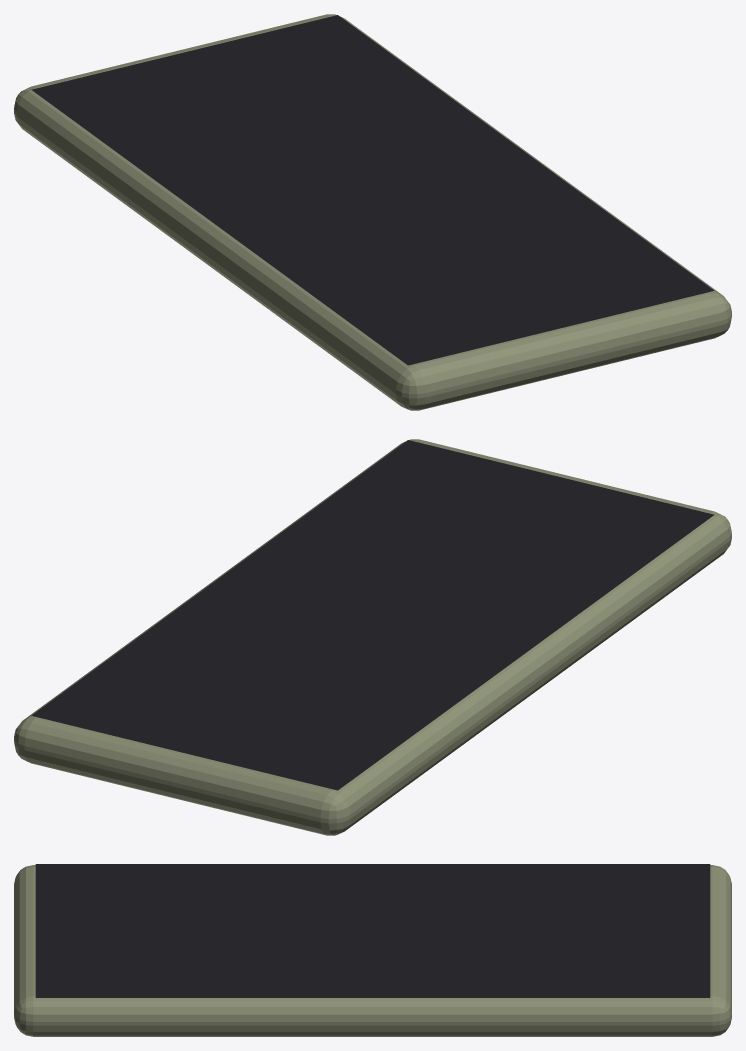
Rendered from oppo-reno-model-290-mid-range-2021.glb.
3 views of the same model, one above another, from view 1: azimuth 30°, elevation 25°; view 2: azimuth 150°, elevation 25°; view 3: azimuth 270°, elevation 25° (orthographic). The views are drawn at different scales.
Parts seen in each view (by area): view 1: Phone_Screen, Phone_Body; view 2: Phone_Screen, Phone_Body; view 3: Phone_Screen, Phone_Body.
Part boxes in pixels (<box>): Phone_Screen: <box>31,15,714,365</box>; Phone_Body: <box>14,14,731,410</box>; Phone_Screen: <box>31,440,714,790</box>; Phone_Body: <box>14,439,731,835</box>; Phone_Screen: <box>35,864,710,997</box>; Phone_Body: <box>14,865,731,1036</box>.
Size of the model in its own units: 0.0722 by 0.0091 by 0.1504.
